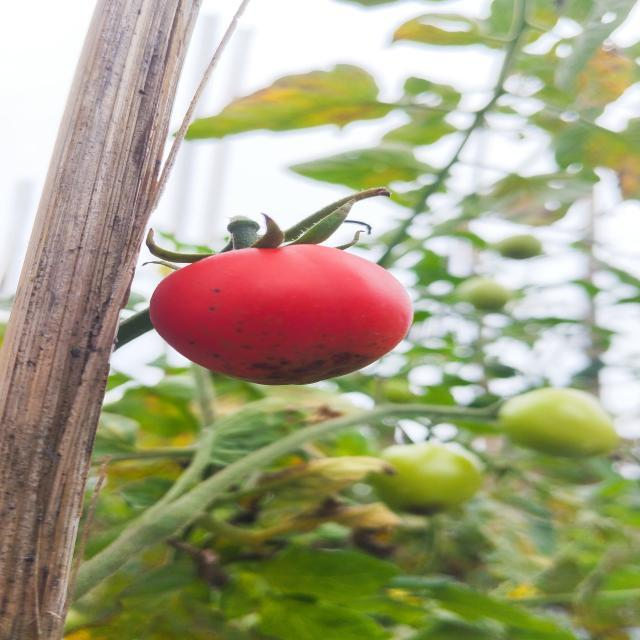Masak: (114, 230, 446, 391)
